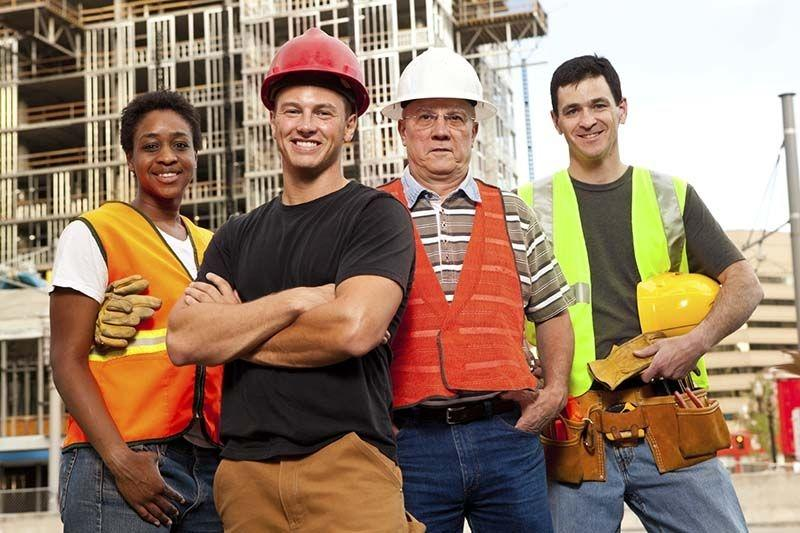helmet: (249, 26, 377, 102), (379, 46, 502, 117)
no_wear: (440, 173, 729, 470), (207, 195, 411, 373)
wear: (51, 217, 249, 453)
